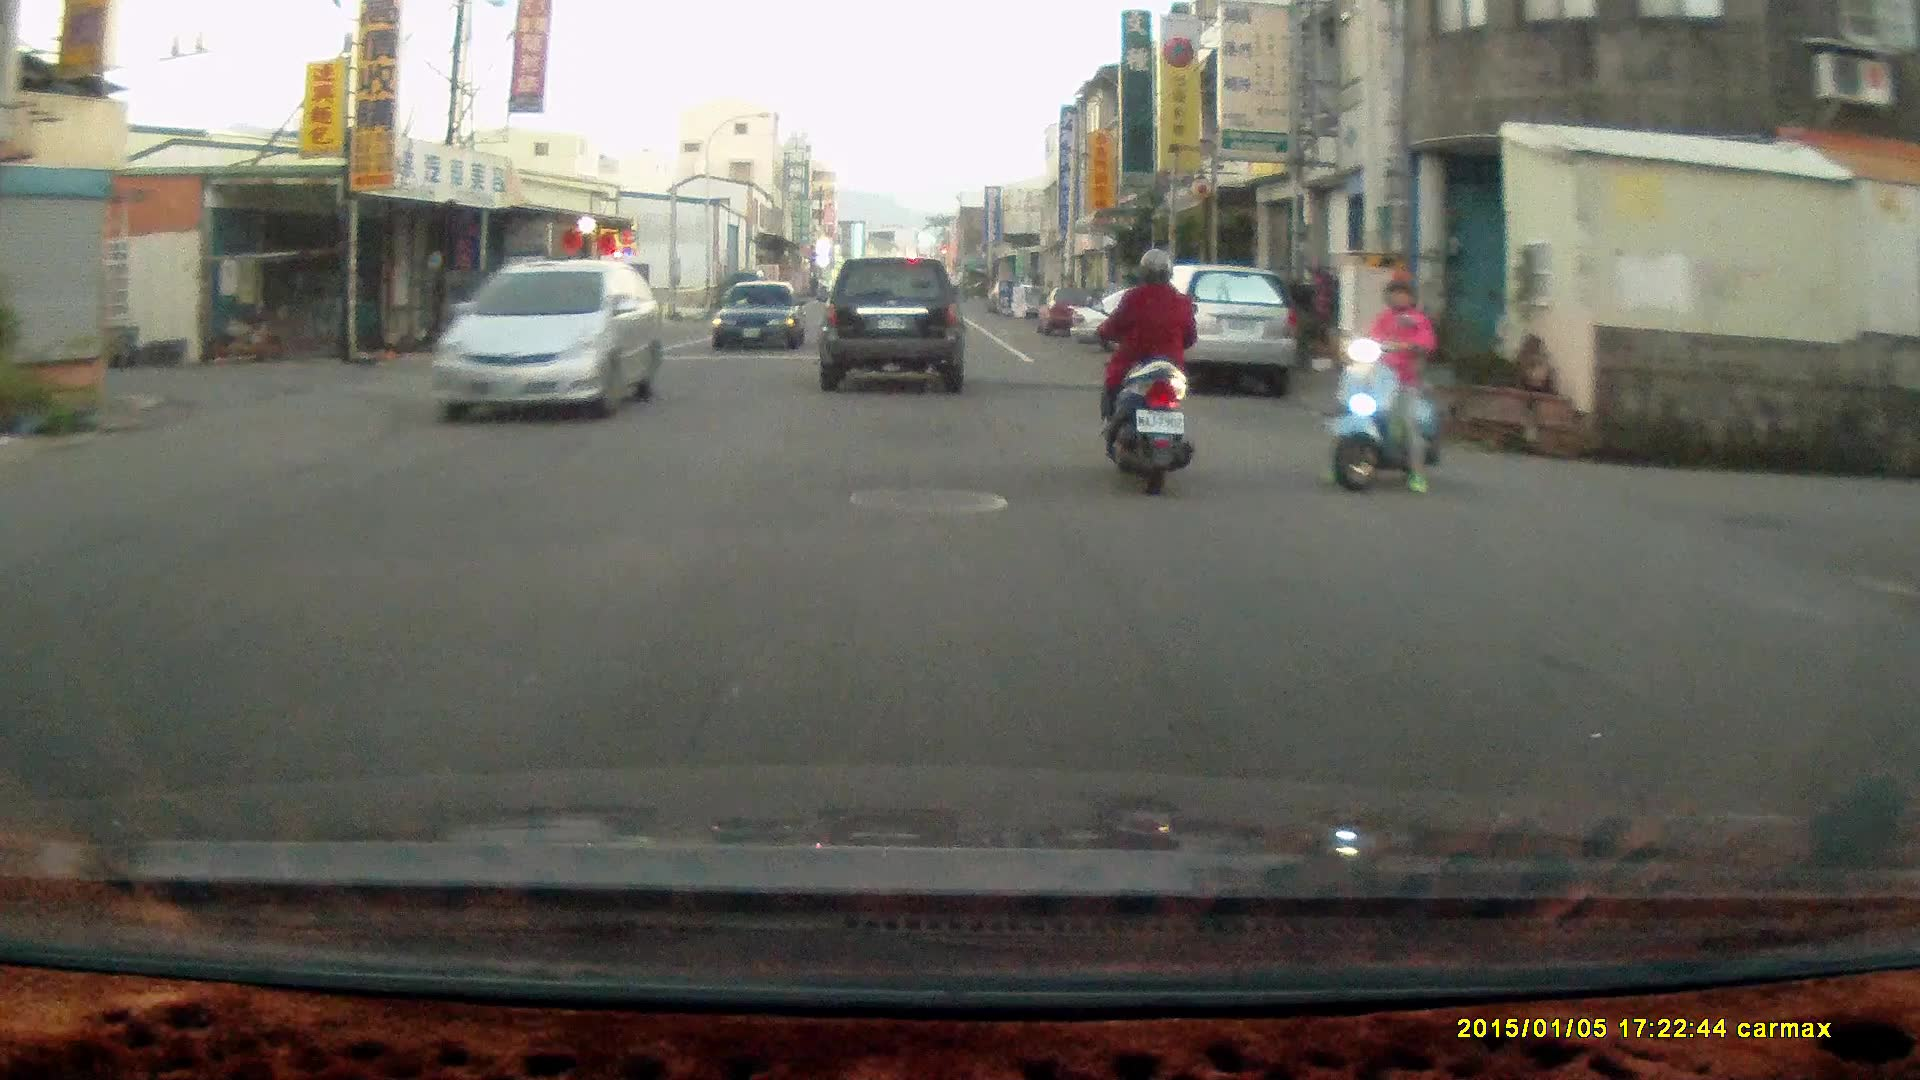rider: (1315, 269, 1440, 494), (1099, 247, 1196, 502)
vehicle: (435, 256, 665, 422), (1127, 265, 1300, 397), (818, 256, 967, 399), (1069, 283, 1247, 355), (718, 282, 808, 355)
